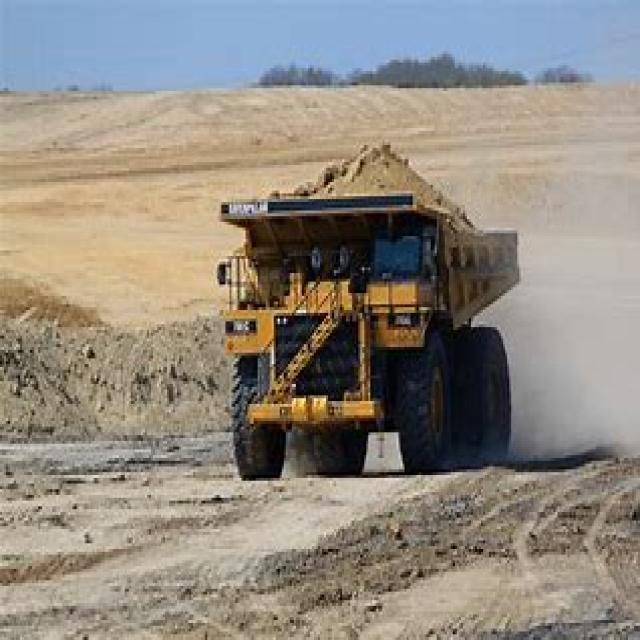dump_truck: (181, 105, 542, 478)
